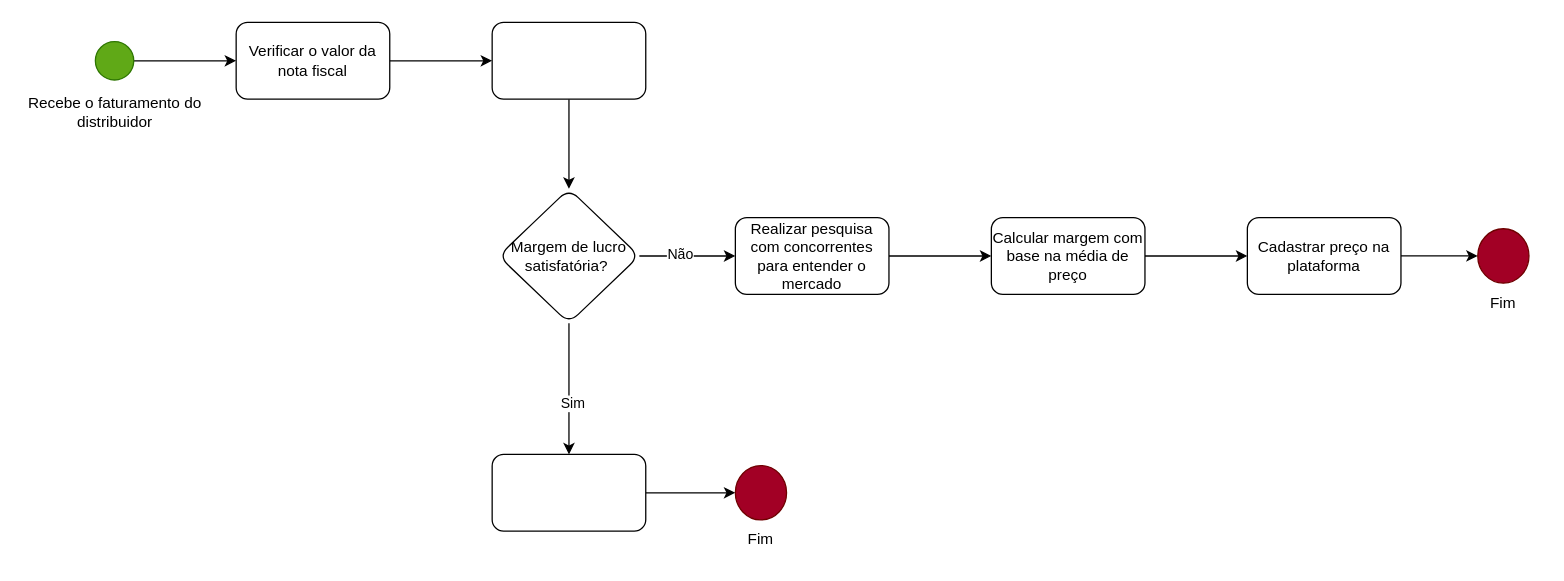
The diagram is 1564 pixels wide and 581 high, and some of its shapes have lost their labels. The box of each missing label's shape, as (x1, y1, x2, y2) in pixels:
Aceitar sugestão e cadastrar preço: (491, 453, 646, 531)
Analisar o preço sugerido pelo fabricante: (491, 21, 646, 99)
